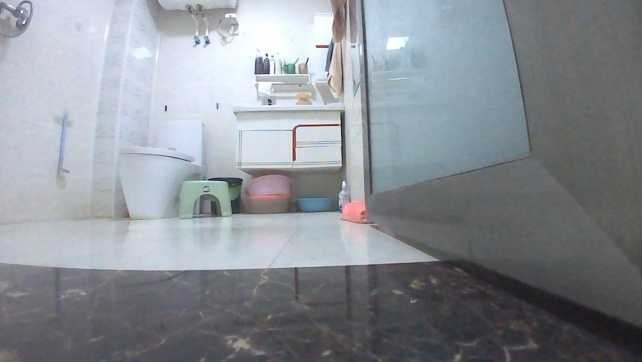door_sill: (0, 252, 640, 359)
plastic_stool: (175, 177, 231, 218)
toilet: (117, 115, 206, 220)
washstand: (232, 102, 342, 172)
